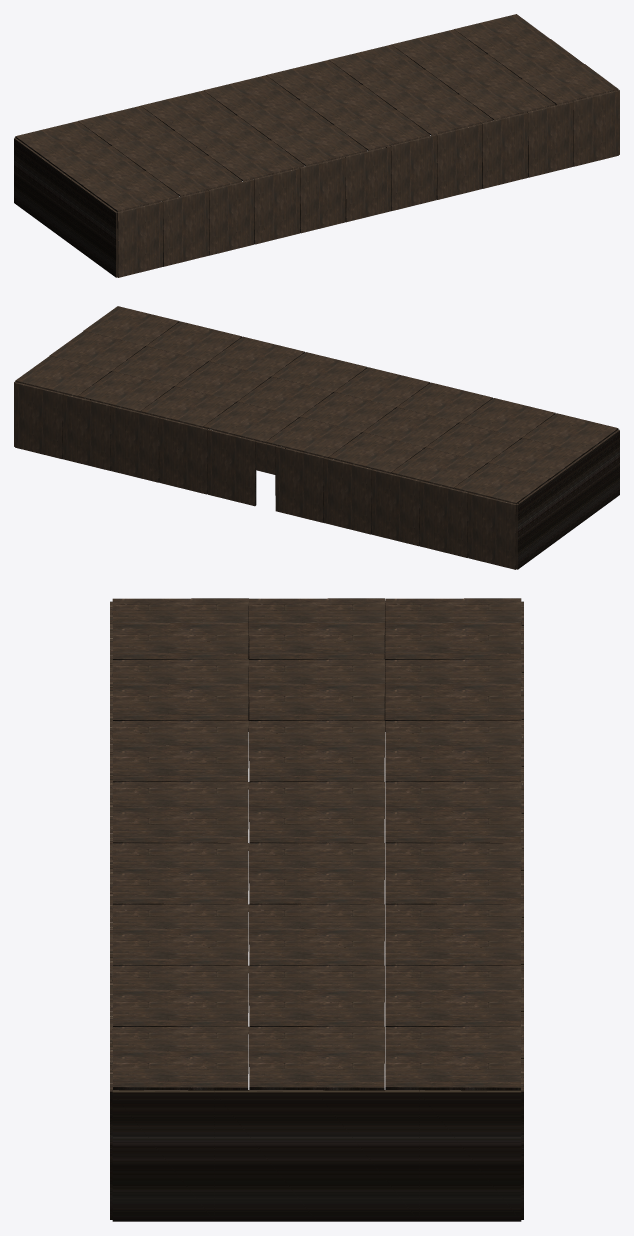
The model's file is int-shell-ropewalk-a.glb.
The picture shows the model from 3 angles, top to bottom: view 1: azimuth 30°, elevation 25°; view 2: azimuth 150°, elevation 25°; view 3: azimuth 270°, elevation 25°; orthographic projection. The views are drawn at different scales.
Parts seen in each view (by area): view 1: ceiling_backing_00_00; view 2: ceiling_backing_00_00; view 3: ceiling_backing_00_00.
Part boxes in pixels (x1,y1,x2,y2): ceiling_backing_00_00: (14,14,619,277); ceiling_backing_00_00: (14,306,619,569); ceiling_backing_00_00: (110,598,523,1221).
Bounding box in the file's own units: 34.16 × 4.31 × 12.16.
2 materials, 2 textured.
